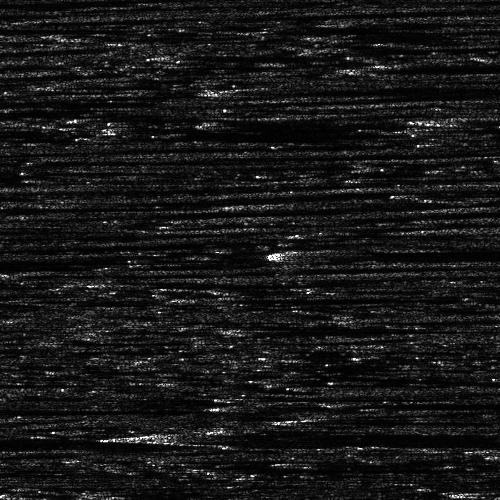rock: (290, 394, 383, 411), (288, 240, 341, 263), (409, 486, 500, 495), (213, 322, 286, 331), (252, 416, 345, 423), (104, 280, 145, 285)
shadow: (315, 240, 500, 263), (337, 394, 500, 411), (250, 322, 459, 331), (0, 376, 129, 387), (0, 405, 117, 416), (125, 280, 324, 285), (299, 416, 437, 423), (0, 203, 57, 212), (456, 486, 500, 495)
